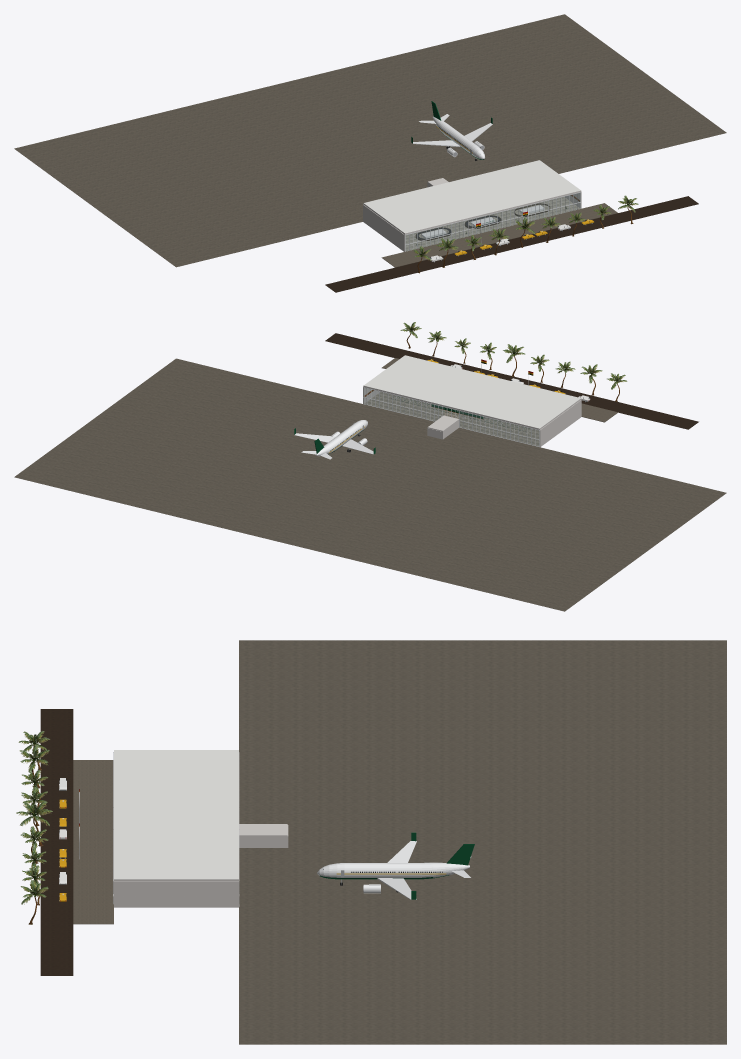
File: kotoka-arrivals.v2.glb
3 renders of one model, top to bottom at view 1: azimuth 30°, elevation 25°; view 2: azimuth 150°, elevation 25°; view 3: azimuth 270°, elevation 25°, orthographic. The views are drawn at different scales.
Visible parts, largest first — view 1: apron, floors, forecourt, glass, airliner, mullions, ends; view 2: apron, floors, forecourt, glass.001, airliner, mullions.001, ends, corridor; view 3: apron, floors, forecourt, airliner, ends, corridor.
Part boxes in pixels (bbox=[...]): apron: bbox=[14, 14, 726, 267]; floors: bbox=[363, 160, 581, 251]; forecourt: bbox=[325, 196, 698, 292]; glass: bbox=[405, 193, 580, 250]; airliner: bbox=[411, 101, 492, 160]; mullions: bbox=[405, 192, 581, 251]; ends: bbox=[363, 192, 581, 251]; apron: bbox=[14, 358, 726, 611]; floors: bbox=[363, 355, 581, 446]; forecourt: bbox=[325, 333, 698, 429]; glass.001: bbox=[364, 388, 538, 446]; airliner: bbox=[294, 420, 375, 459]; mullions.001: bbox=[363, 387, 539, 447]; ends: bbox=[363, 387, 581, 447]; corridor: bbox=[427, 415, 459, 439]; apron: bbox=[239, 640, 726, 1044]; floors: bbox=[114, 750, 238, 881]; forecourt: bbox=[40, 709, 113, 975]; airliner: bbox=[317, 832, 474, 899]; ends: bbox=[114, 881, 238, 907]; corridor: bbox=[239, 824, 288, 847].
Size of what is drawn, in the model's own units: 235 by 12 by 175.
39 materials, 11 textured.
